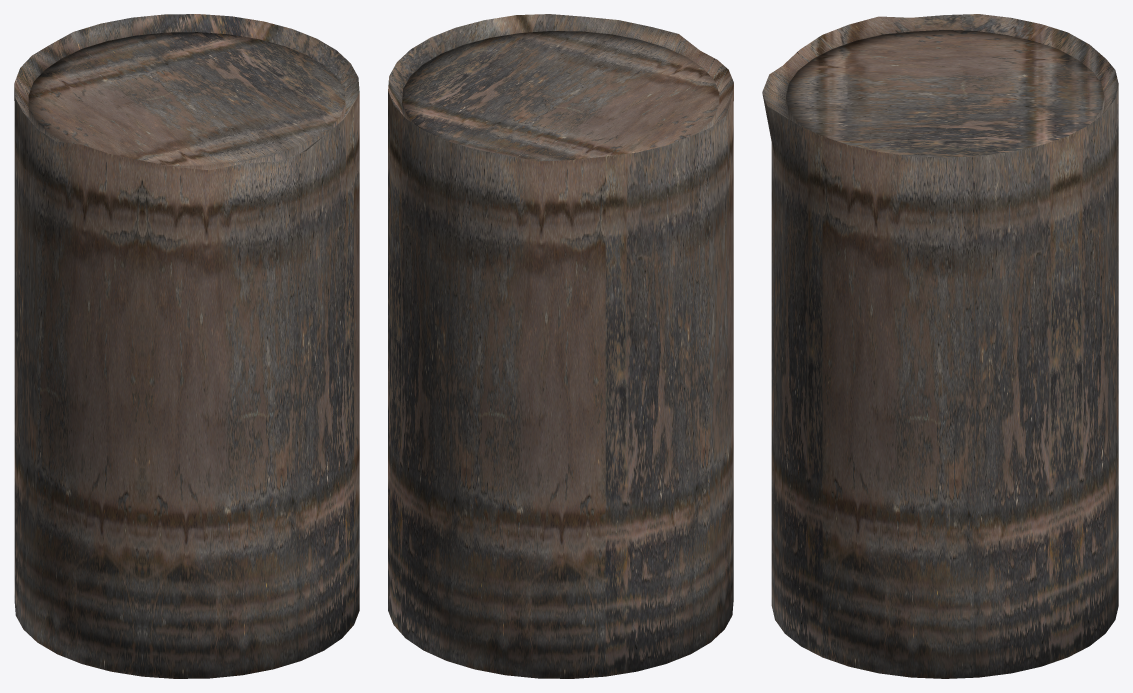
File: Barrel2.fbx
The picture shows the model from 3 angles, left to right: view 1: azimuth 30°, elevation 25°; view 2: azimuth 150°, elevation 25°; view 3: azimuth 270°, elevation 25°; orthographic projection.
Visible parts, largest first — view 1: Barrel; view 2: Barrel; view 3: Barrel.
Part boxes in pixels (box(x1,y1,x2,y2)): Barrel: box(14, 14, 359, 678); Barrel: box(388, 14, 733, 678); Barrel: box(762, 14, 1118, 678).
Bounding box in the file's own units: 201 × 331 × 205.
Materials: 1 (1 with a texture image).
